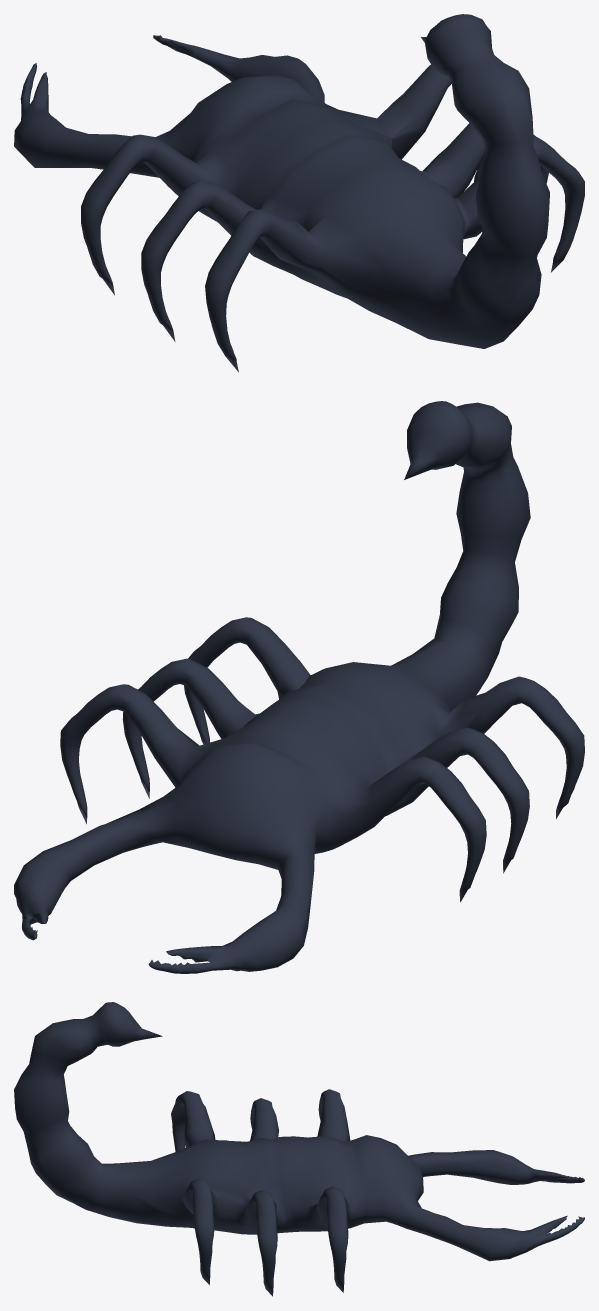
File: scorpionDone.obj
The picture shows the model from 3 angles, top to bottom: view 1: azimuth 30°, elevation 25°; view 2: azimuth 150°, elevation 25°; view 3: azimuth 270°, elevation 25°; orthographic projection. The views are drawn at different scales.
Visible parts, largest first — view 1: polySurface1270; view 2: polySurface1270; view 3: polySurface1270.
Boxes of the visible parts, x1=… form: polySurface1270: x1=14, y1=14, x2=584, y2=372; polySurface1270: x1=14, y1=401, x2=584, y2=973; polySurface1270: x1=14, y1=1002, x2=584, y2=1296.
Bounding box in the file's own units: 0.6924 × 0.5607 × 1.23.
Materials: 1 (1 with a texture image).
